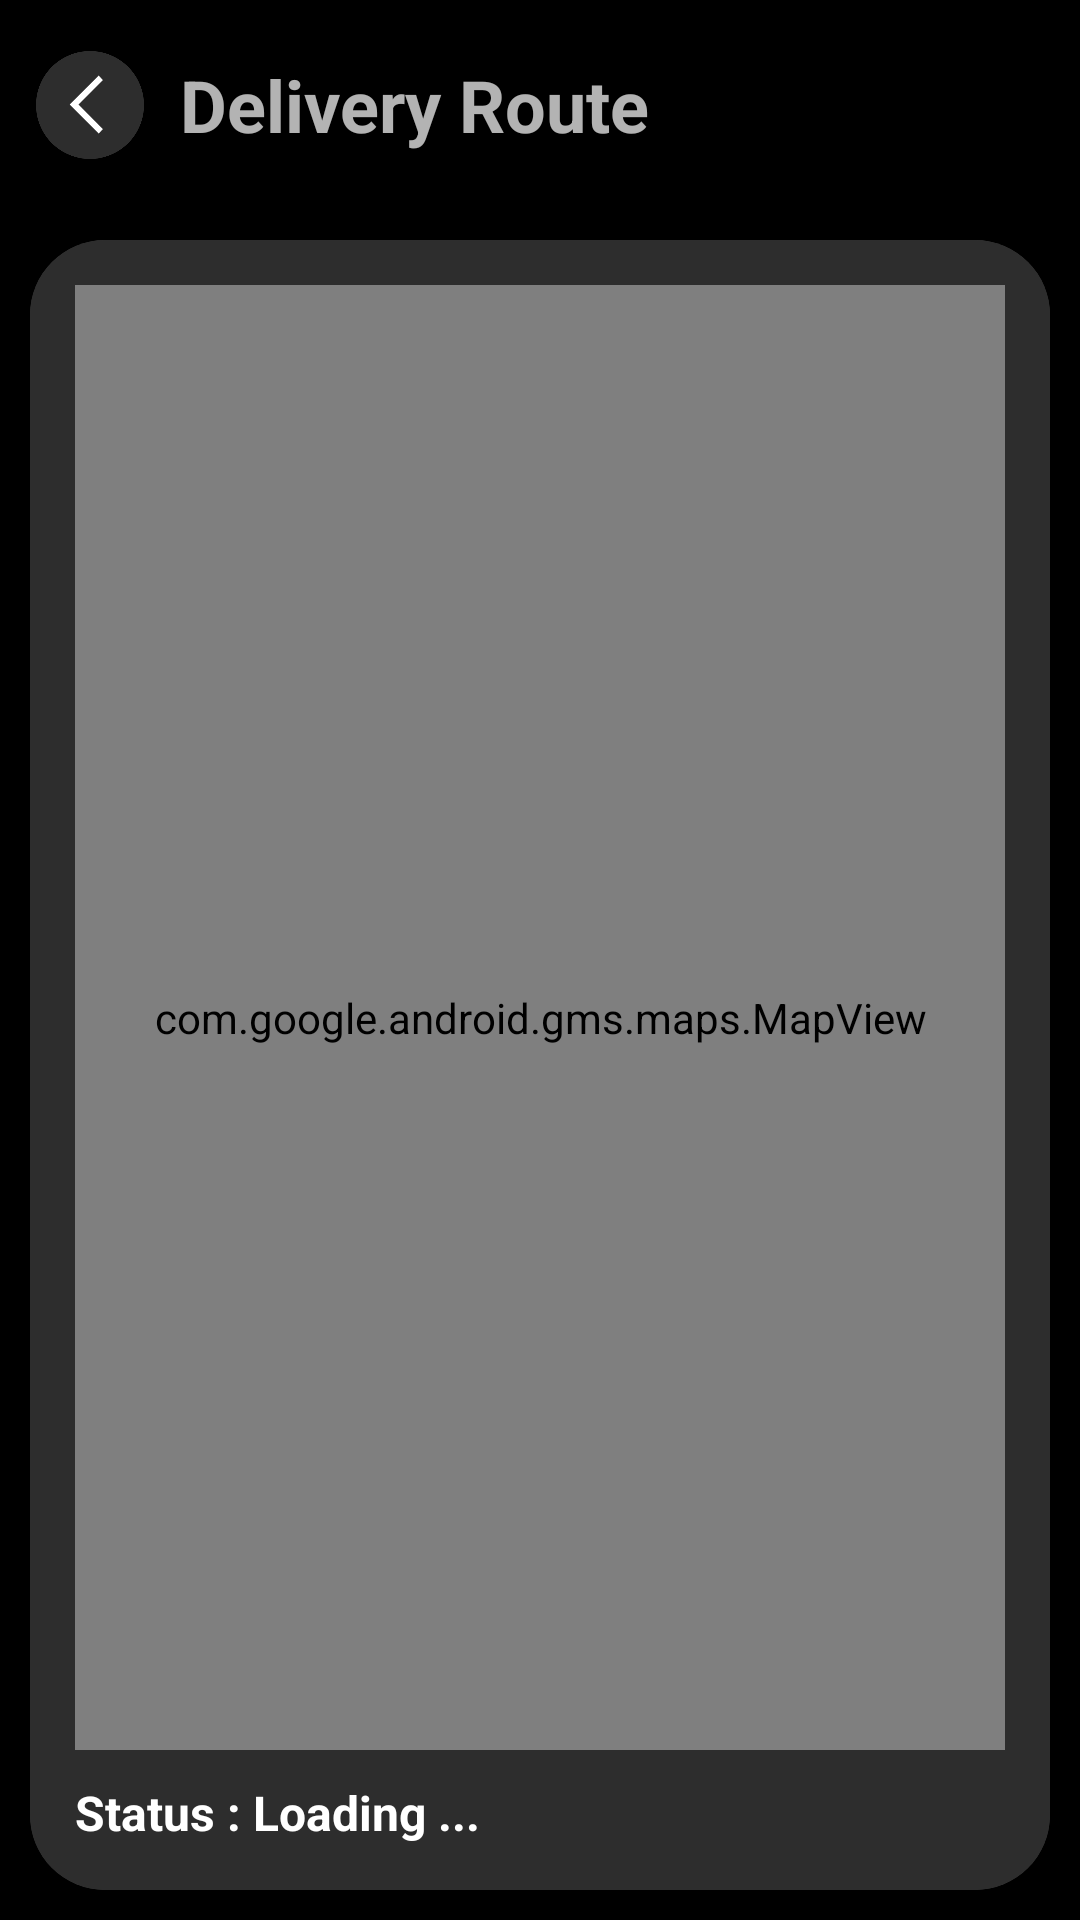

Locate icon controls on the screen. Image size 1080px x 1920px, boxes as (x1, y1, x2, y2).
back: (36, 51, 144, 159)
